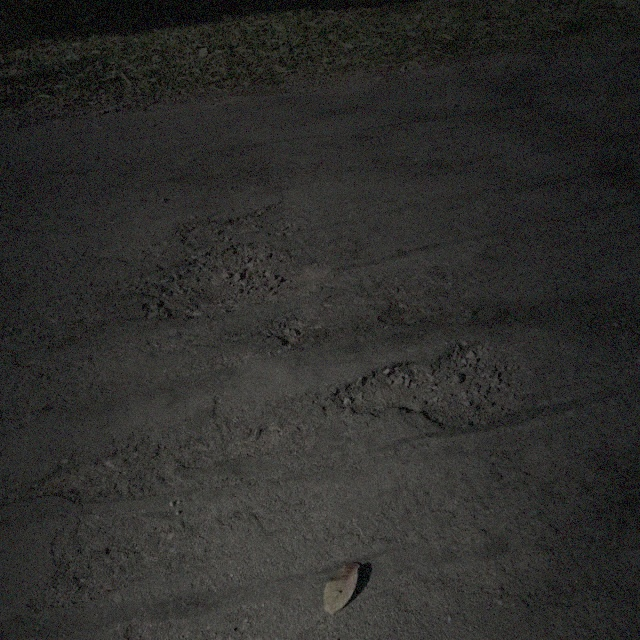pothole: (328, 335, 532, 429), (124, 242, 326, 316), (172, 198, 310, 246), (267, 316, 311, 351)
